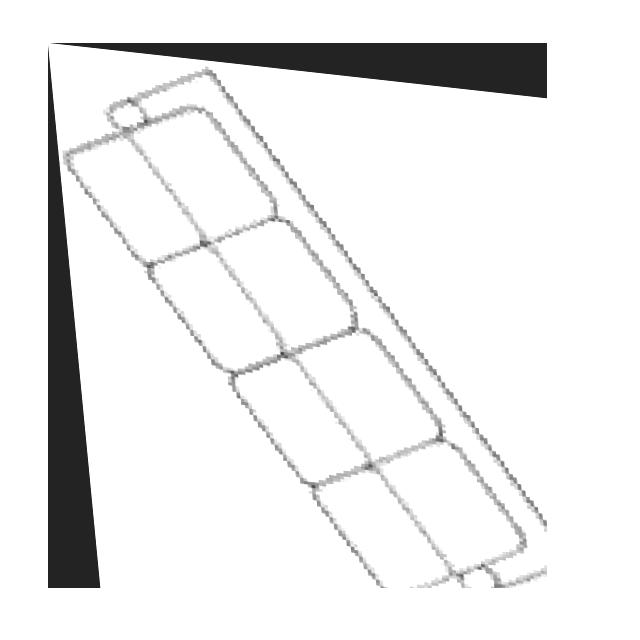sofa: (48, 43, 547, 588)
